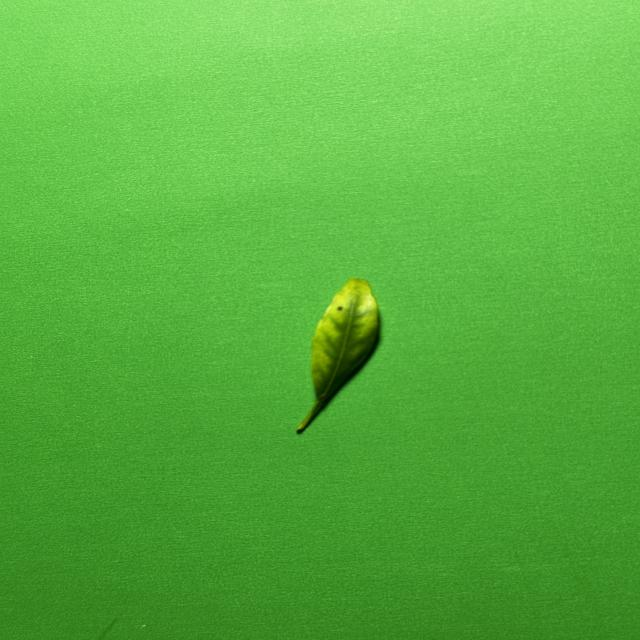greening: (297, 278, 378, 433)
